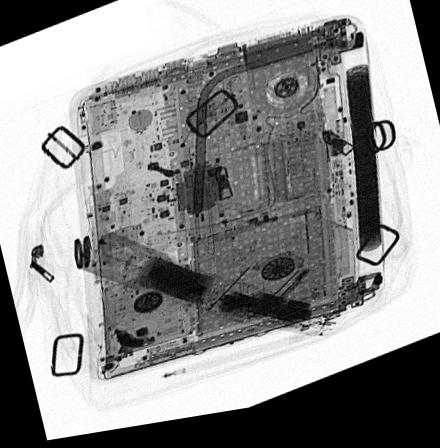Baton: (73, 227, 344, 349)
